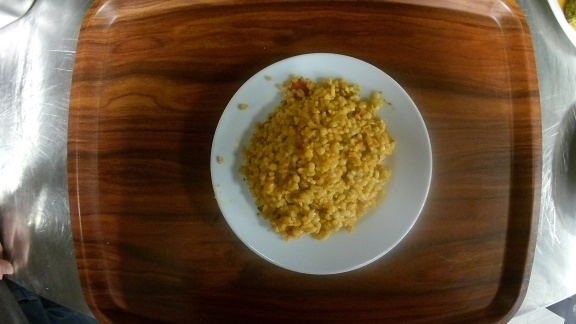bulgur: (209, 53, 433, 274)
